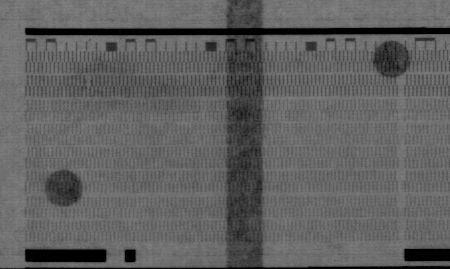Broken hole: (82, 74, 94, 87)
